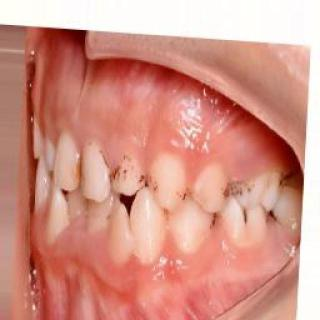LL1BC_mdecay: (168, 200, 217, 252)
LL2BC_healthy: (223, 197, 267, 246)
LLCI_healthy: (86, 201, 112, 231)
LLC_healthy: (130, 188, 165, 263)
LLLI_healthy: (108, 203, 130, 264)
LRCI_healthy: (67, 191, 87, 217)
LRC_healthy: (34, 160, 53, 213)
LRLI_healthy: (45, 190, 69, 244)
UL1BC_mdecay: (192, 163, 230, 214)
UL2BC_sdecay: (231, 171, 278, 211)
ULCI_sdecay: (82, 143, 111, 201)
ULC_sdecay: (147, 154, 187, 210)
ULLI_sdecay: (112, 155, 145, 196)
URCI_mdecay: (53, 131, 81, 191)
URC_healthy: (33, 123, 42, 159)
URLI_healthy: (43, 138, 54, 170)
